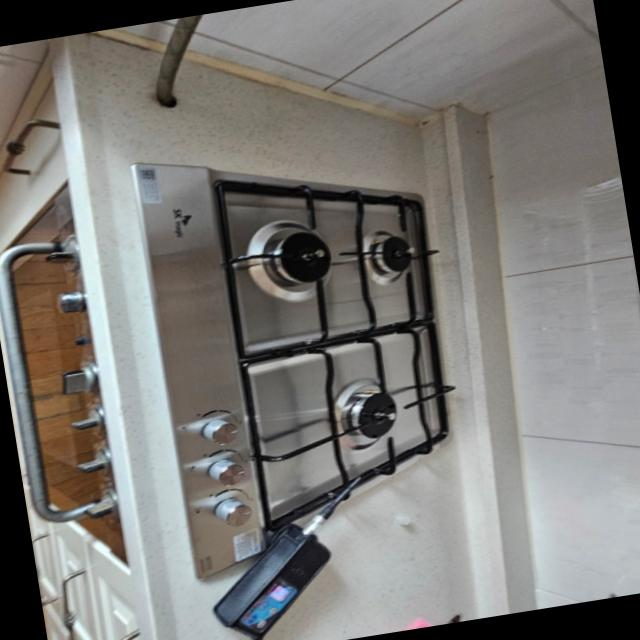knob_OFF: (281, 344, 430, 461), (233, 202, 352, 341), (339, 213, 456, 328)
